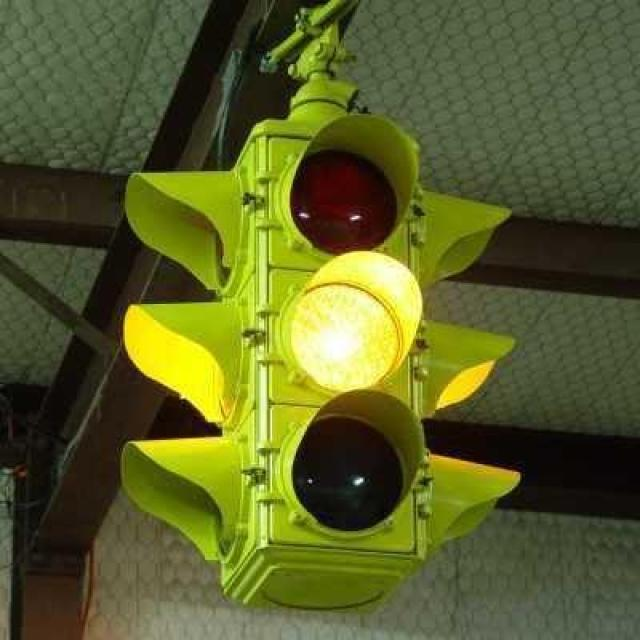Traffic Light -Yellow-: (244, 106, 437, 571)
